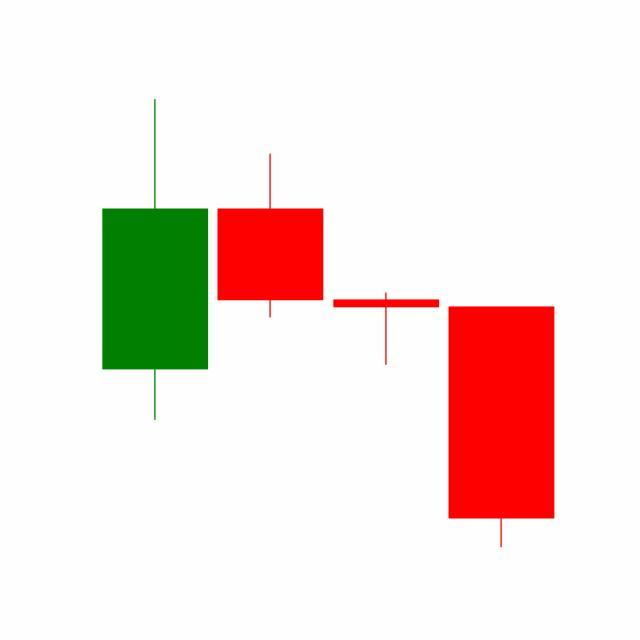Hammer: (329, 291, 445, 367)
